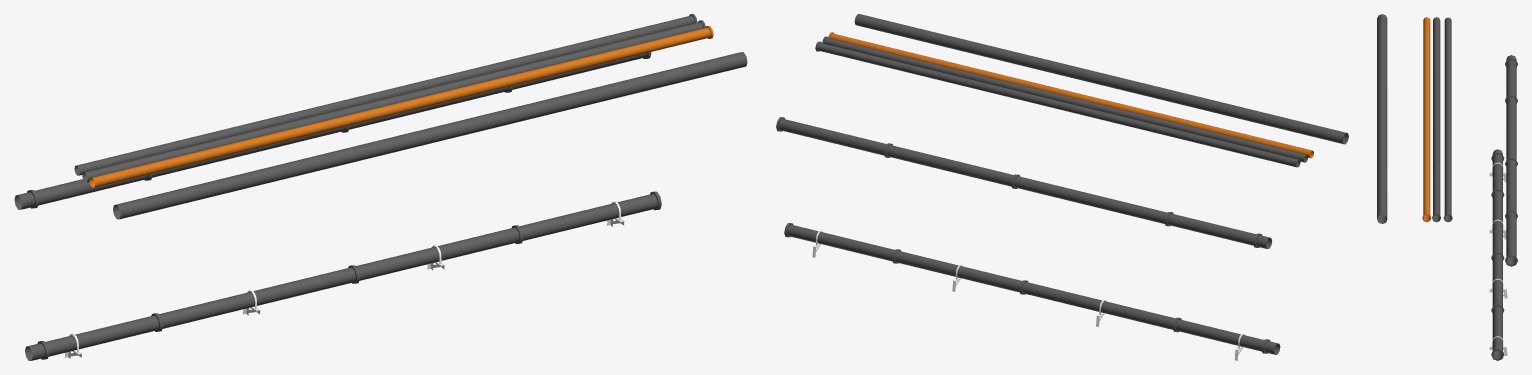
File: SM_H_Building_Tide_Ventilate_02d_ATLAS.fbx
3 views of the same model, side by side, from view 1: azimuth 30°, elevation 25°; view 2: azimuth 150°, elevation 25°; view 3: azimuth 270°, elevation 25° (orthographic). The views are drawn at different scales.
Parts seen in each view (by area): view 1: SM_H_Building_Tide_Ventilate_02d_ATLAS; view 2: SM_H_Building_Tide_Ventilate_02d_ATLAS; view 3: SM_H_Building_Tide_Ventilate_02d_ATLAS.
Boxes of the visible parts, x1,y1,x2,y2 form: SM_H_Building_Tide_Ventilate_02d_ATLAS: [14, 14, 747, 360]; SM_H_Building_Tide_Ventilate_02d_ATLAS: [776, 14, 1348, 360]; SM_H_Building_Tide_Ventilate_02d_ATLAS: [1377, 14, 1517, 360].
Size of the model in its own units: 1567 by 464 by 560.
